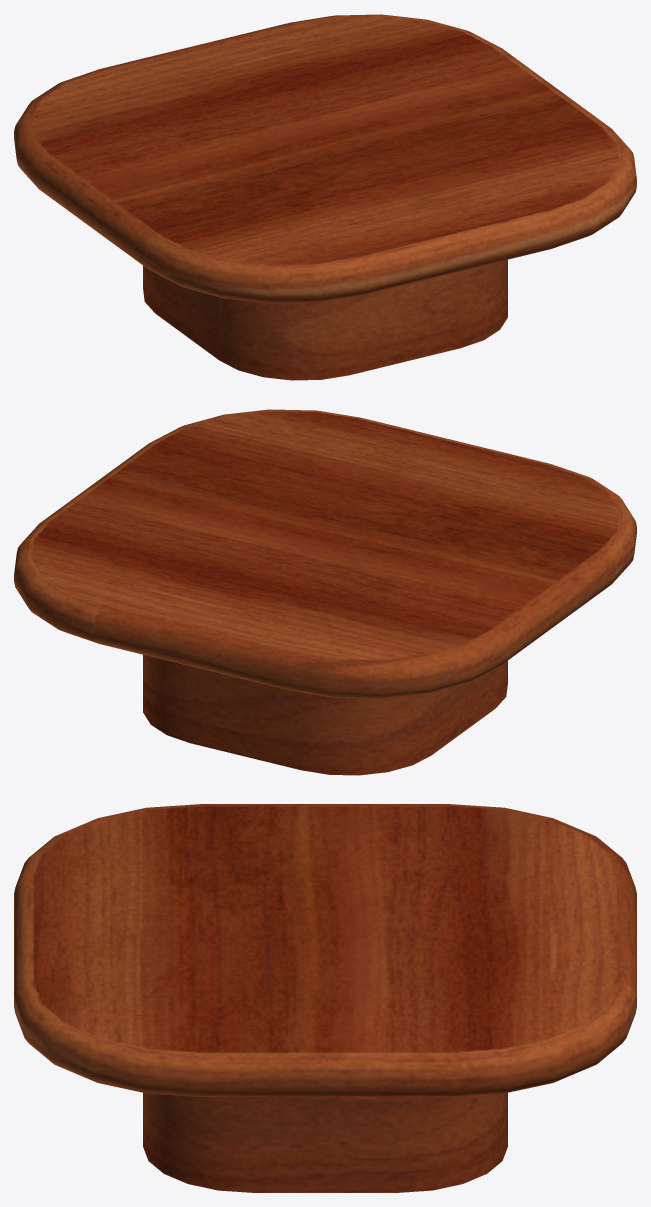
File: CoffeeTable_Sq_Cherry2.glb
The picture shows the model from 3 angles, top to bottom: view 1: azimuth 30°, elevation 25°; view 2: azimuth 150°, elevation 25°; view 3: azimuth 270°, elevation 25°; orthographic projection. The views are drawn at different scales.
Parts seen in each view (by area): view 1: Cube.007, Cube; view 2: Cube.007, Cube; view 3: Cube.007, Cube.
Boxes of the visible parts, x1=… form: Cube.007: x1=14, y1=14, x2=636, y2=303; Cube: x1=143, y1=259, x2=507, y2=380; Cube.007: x1=14, y1=409, x2=636, y2=698; Cube: x1=143, y1=654, x2=507, y2=775; Cube.007: x1=14, y1=804, x2=636, y2=1096; Cube: x1=143, y1=1093, x2=507, y2=1192.
Size of the model in its own units: 1.53 by 0.5061 by 1.53.
1 material, 1 textured.
